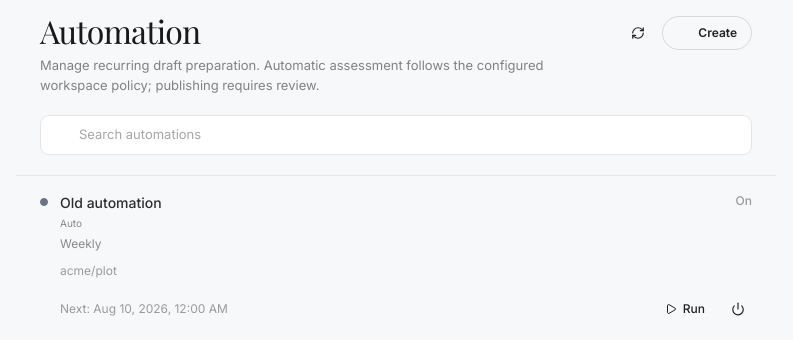
Test: RoutinesWorkspace › ignores a toggle response from the previous workspace
Click the button named "Pause Old automation".
click(738, 309)  # box left=724, top=295, right=752, bottom=323
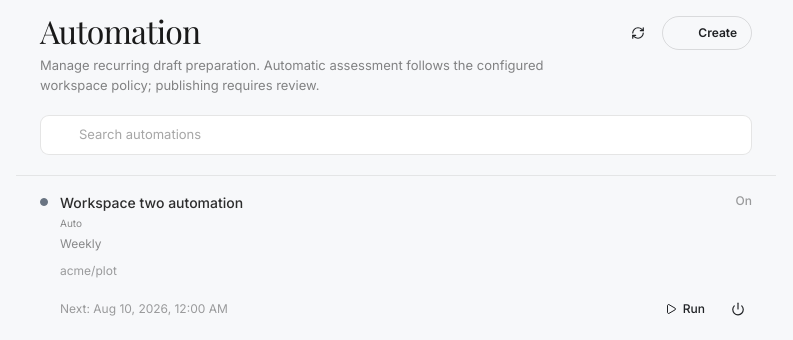
Check: the heading "Workspace two automation" is shown, box left=60, top=192, right=243, bottom=213
Check: the heading "Old automation" is gone
